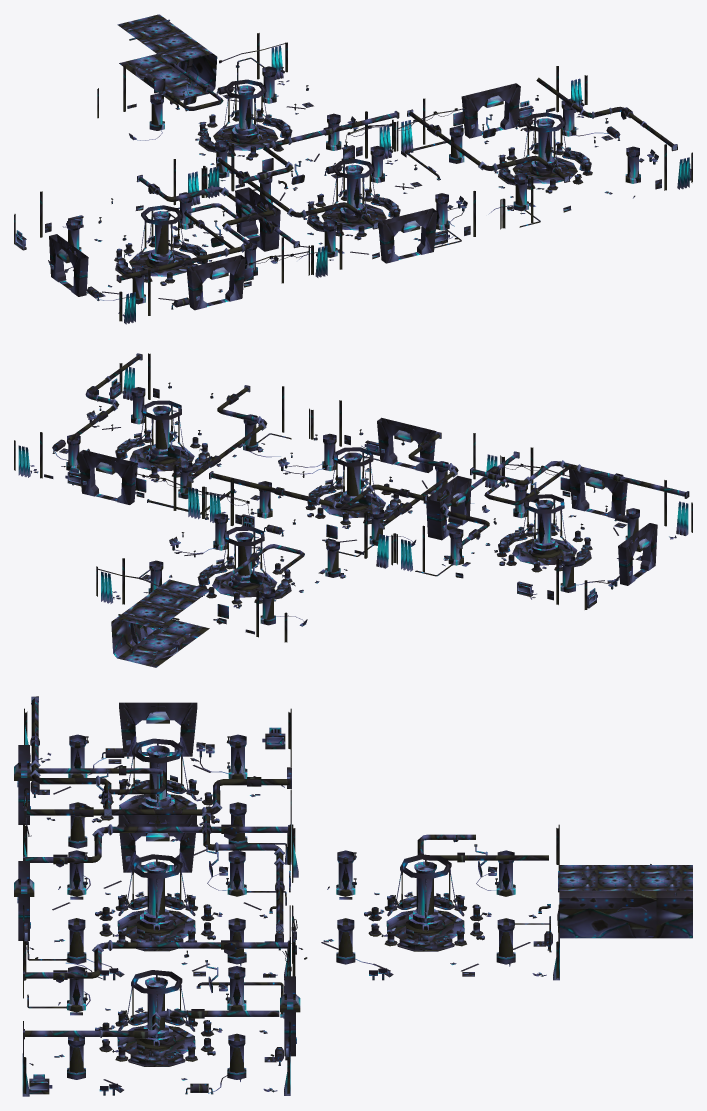
Rendered from Combined_Mesh_root_scene__10_7ad9d44b__ZombiesII_laboratory_11_d_6be3923c_c1f257_part001.obj.
The picture shows the model from 3 angles, top to bottom: view 1: azimuth 30°, elevation 25°; view 2: azimuth 150°, elevation 25°; view 3: azimuth 270°, elevation 25°; orthographic projection. The views are drawn at different scales.
Size of the model in its own units: 124 by 10.34 by 102.
Materials: 541 (541 with a texture image).
